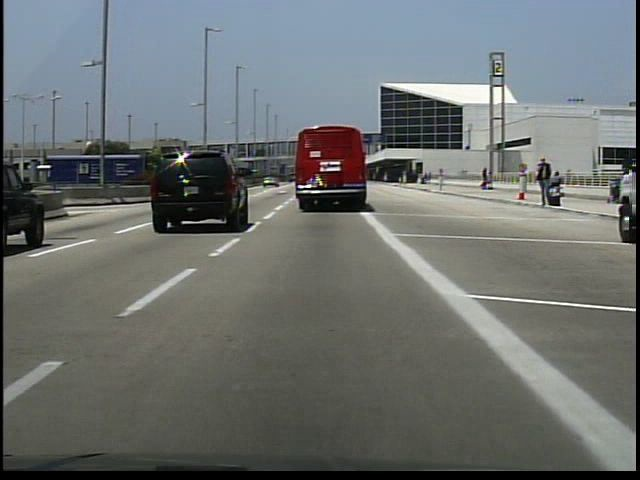person: (533, 154, 556, 212), (544, 168, 567, 201)
